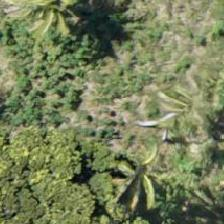coconut_tree: (91, 125, 181, 215), (152, 65, 223, 155)
